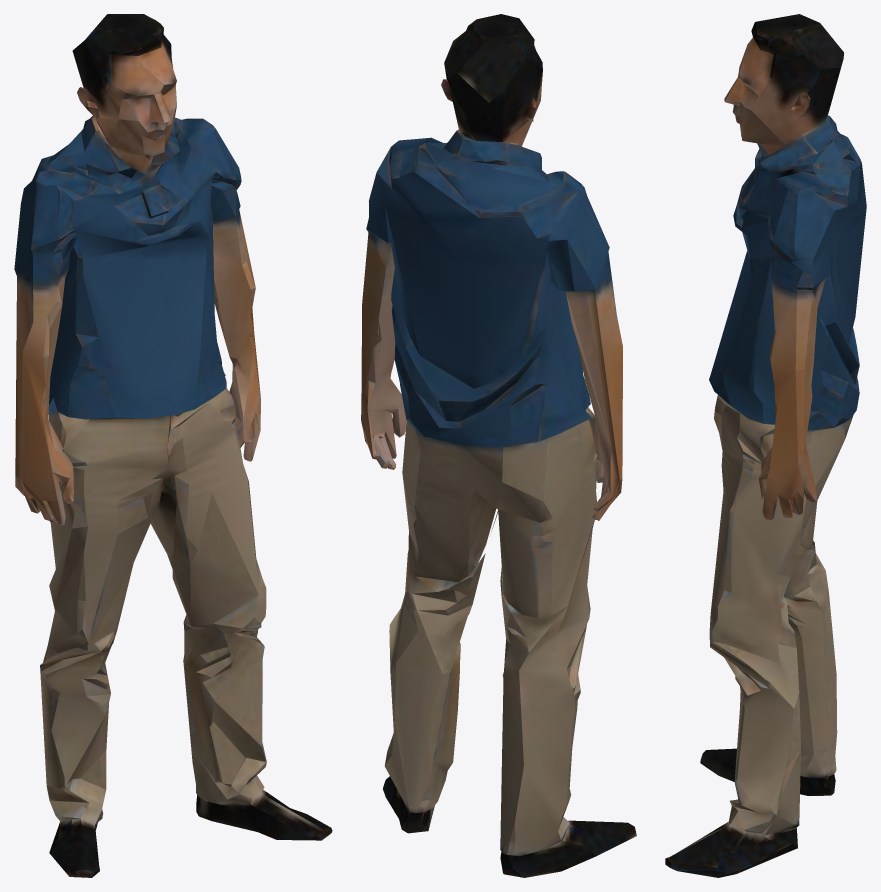
Rendered from masyarakat_idle_lod2.glb.
The picture shows the model from 3 angles, left to right: view 1: azimuth 30°, elevation 25°; view 2: azimuth 150°, elevation 25°; view 3: azimuth 270°, elevation 25°; orthographic projection. The views are drawn at different scales.
Visible parts, largest first — view 1: tripo_node_e60e25d6; view 2: tripo_node_e60e25d6; view 3: tripo_node_e60e25d6.
Boxes of the visible parts, <box> form: tripo_node_e60e25d6: <box>14,14,332,877</box>; tripo_node_e60e25d6: <box>361,14,636,877</box>; tripo_node_e60e25d6: <box>665,14,866,877</box>.
Bounding box in the file's own units: 33.83 × 99.47 × 23.03.
1 material, 1 textured.
